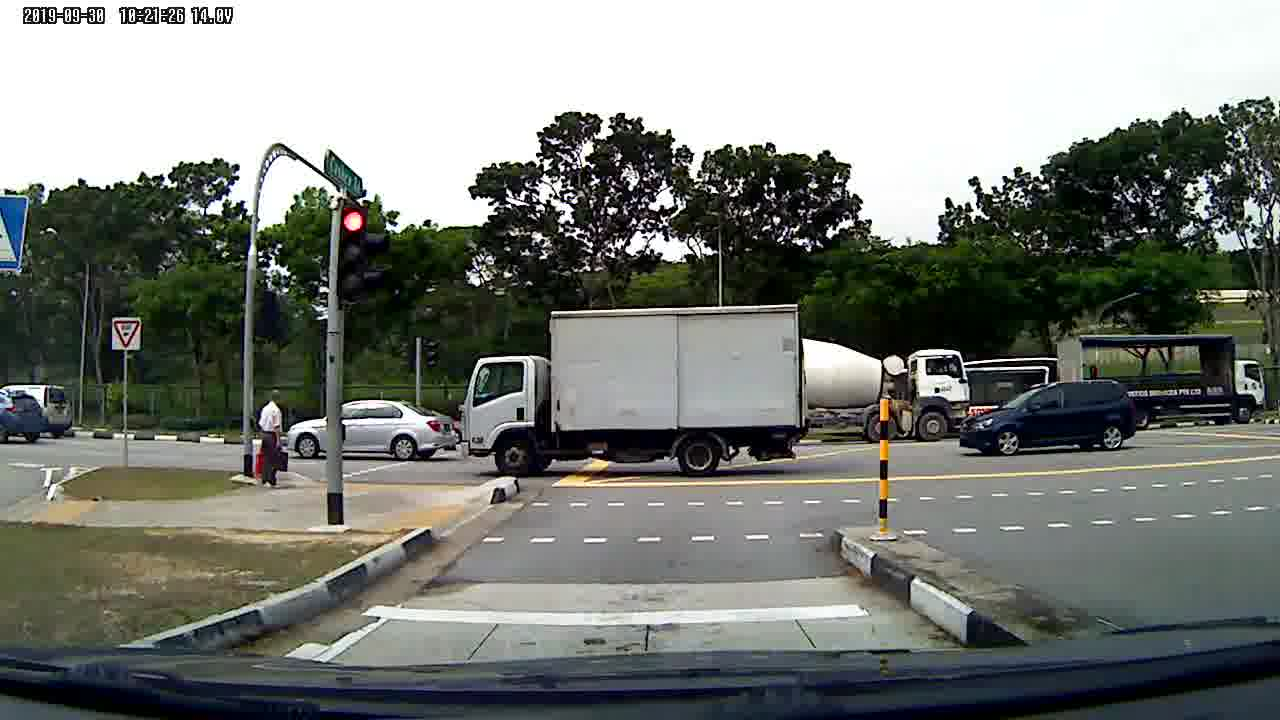bus: (957, 355, 1070, 414)
car: (952, 382, 1143, 457), (285, 401, 459, 466), (1, 389, 50, 448)
